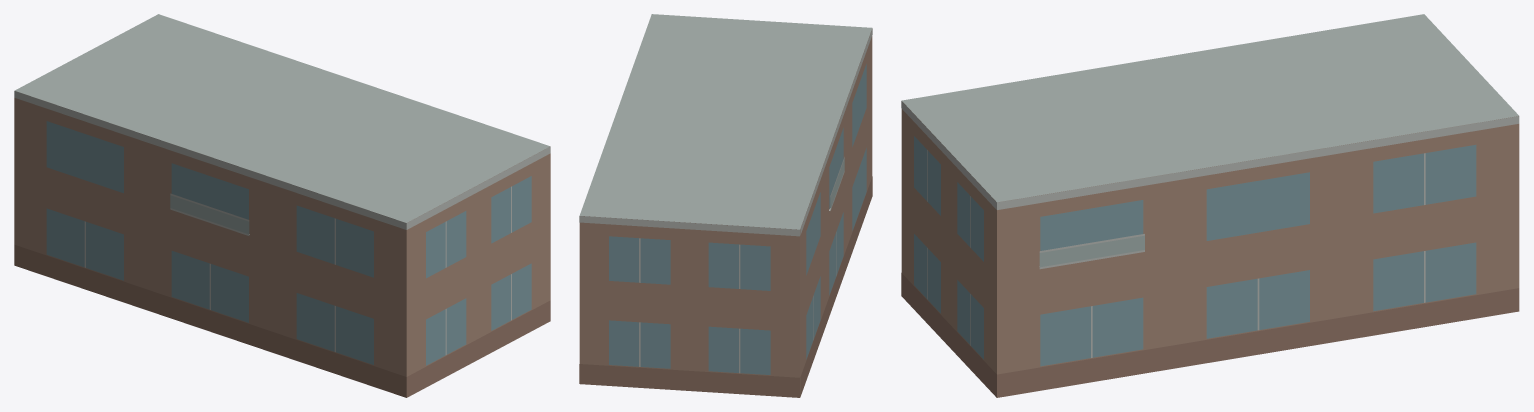
Rendered from survey-upis-32698448.glb.
3 views of the same model, side by side, from view 1: azimuth 30°, elevation 25°; view 2: azimuth 150°, elevation 25°; view 3: azimuth 270°, elevation 25° (orthographic). The views are drawn at different scales.
Visible parts, largest first — view 1: survey-upis-32698448.tmp; view 2: survey-upis-32698448.tmp; view 3: survey-upis-32698448.tmp.
Part boxes in pixels (left/top/right/bottom): survey-upis-32698448.tmp: left=14, top=14, right=550, bottom=397; survey-upis-32698448.tmp: left=579, top=14, right=872, bottom=397; survey-upis-32698448.tmp: left=901, top=14, right=1519, bottom=397.
Bounding box in the file's own units: 12.62 × 6.1 × 17.48.
